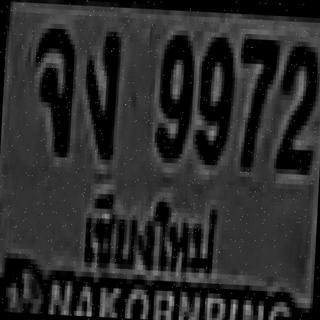A07: (80, 26, 120, 155)
A08: (30, 23, 75, 153)
N02: (274, 36, 319, 170)
N07: (236, 34, 278, 168)
N09: (192, 32, 235, 161), (154, 30, 194, 159)
P11: (73, 181, 228, 286)
